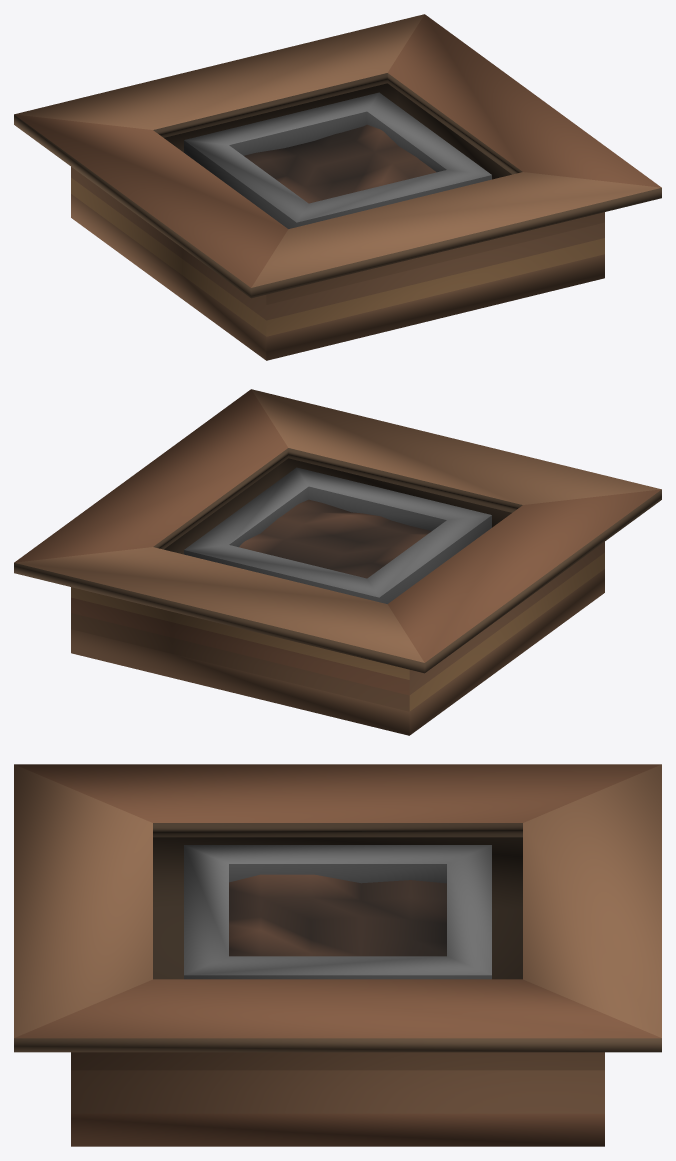
Rendered from furnishings-outdoor-woodentreebed_v1.glb.
3 renders of one model, top to bottom at view 1: azimuth 30°, elevation 25°; view 2: azimuth 150°, elevation 25°; view 3: azimuth 270°, elevation 25°, orthographic. The views are drawn at different scales.
Visible parts, largest first — view 1: WoodenTreeBed.001; view 2: WoodenTreeBed.001; view 3: WoodenTreeBed.001.
Part boxes in pixels (bbox=[...]): WoodenTreeBed.001: bbox=[14, 14, 661, 360]; WoodenTreeBed.001: bbox=[14, 389, 661, 735]; WoodenTreeBed.001: bbox=[14, 764, 661, 1146].
Bounding box in the file's own units: 3.67 × 0.8271 × 3.67.
